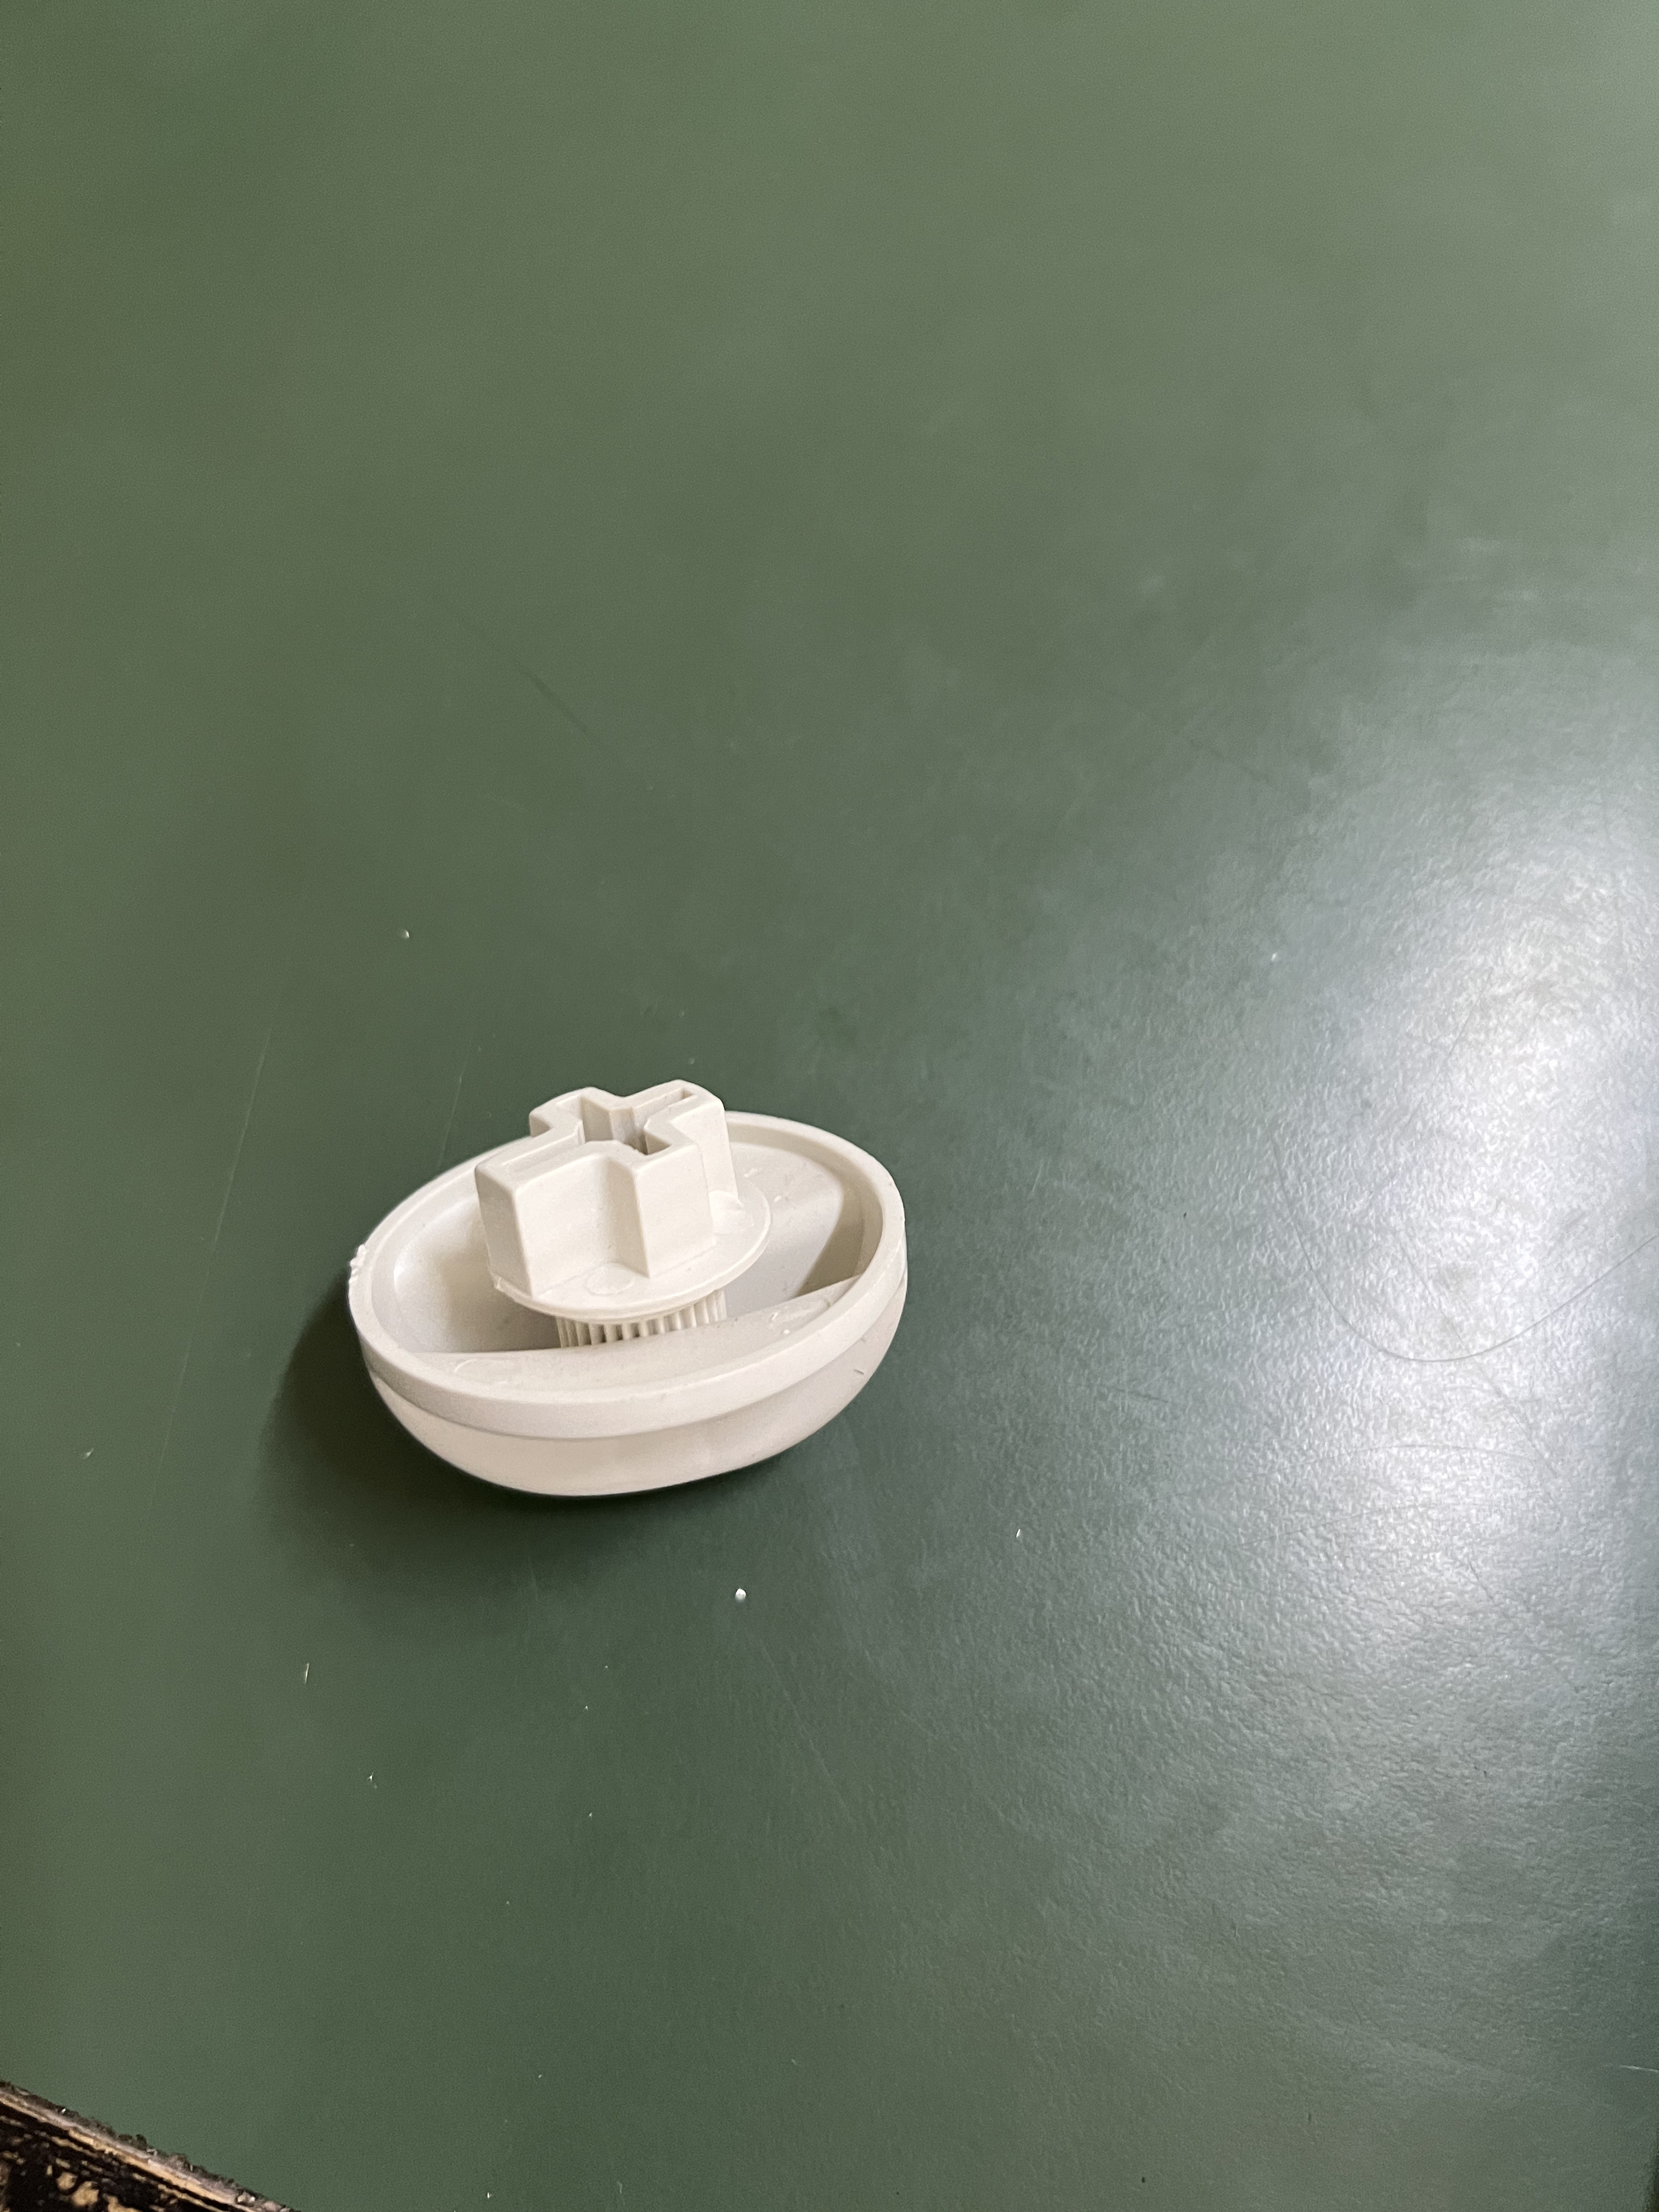regulator: (291, 1064, 969, 1536)
